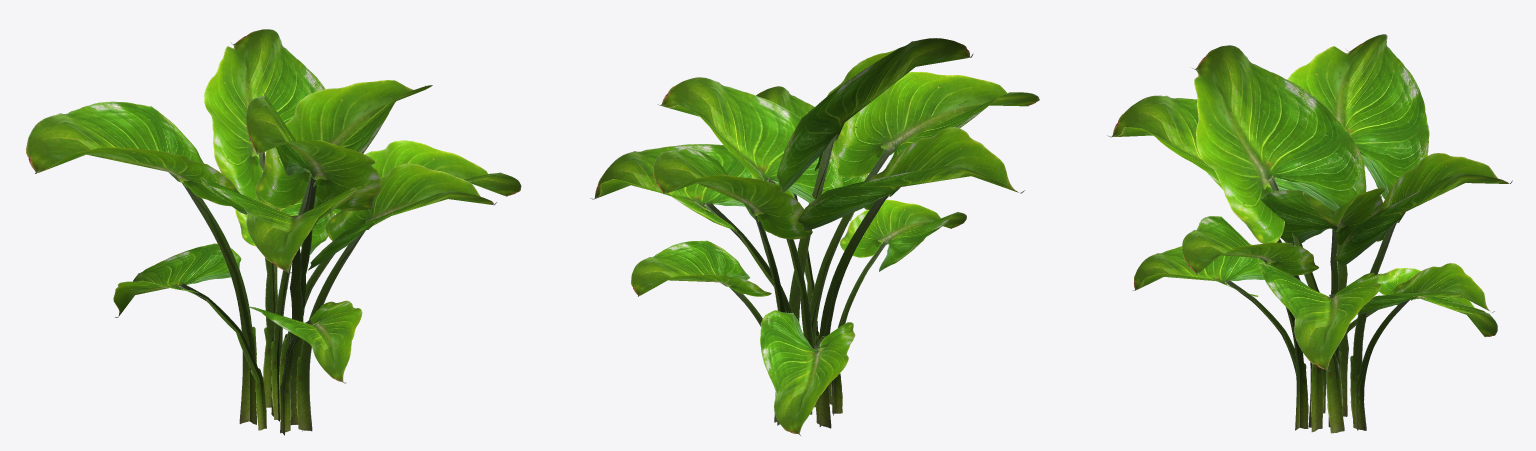
File: Plant_waterLilly001.fbx
3 renders of one model, left to right at view 1: azimuth 30°, elevation 25°; view 2: azimuth 150°, elevation 25°; view 3: azimuth 270°, elevation 25°, orthographic. The views are drawn at different scales.
Visible parts, largest first — view 1: Plant_waterLilly001; view 2: Plant_waterLilly001; view 3: Plant_waterLilly001.
Boxes of the visible parts, x1,y1,x2,y2 form: Plant_waterLilly001: [26, 29, 521, 435]; Plant_waterLilly001: [591, 38, 1039, 435]; Plant_waterLilly001: [1107, 34, 1512, 433].
Size of the model in its own units: 144 by 109 by 123.
